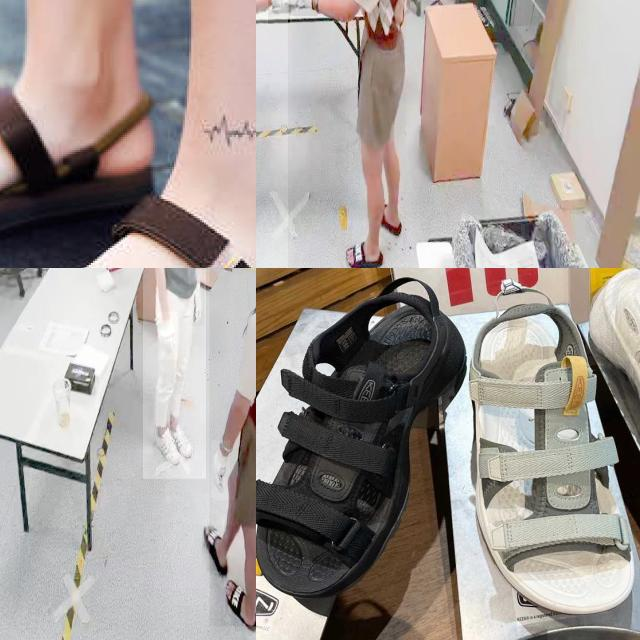Sandals: (447, 276, 640, 636), (256, 268, 453, 614), (0, 66, 153, 264), (0, 189, 256, 268), (574, 268, 640, 568)
hand_glove: (211, 441, 231, 501), (158, 312, 178, 361), (191, 280, 205, 326), (267, 0, 290, 23), (289, 0, 317, 16)
person: (292, 0, 406, 268), (209, 268, 256, 627), (143, 268, 206, 479)
shoes: (166, 414, 196, 464), (152, 418, 181, 468)
